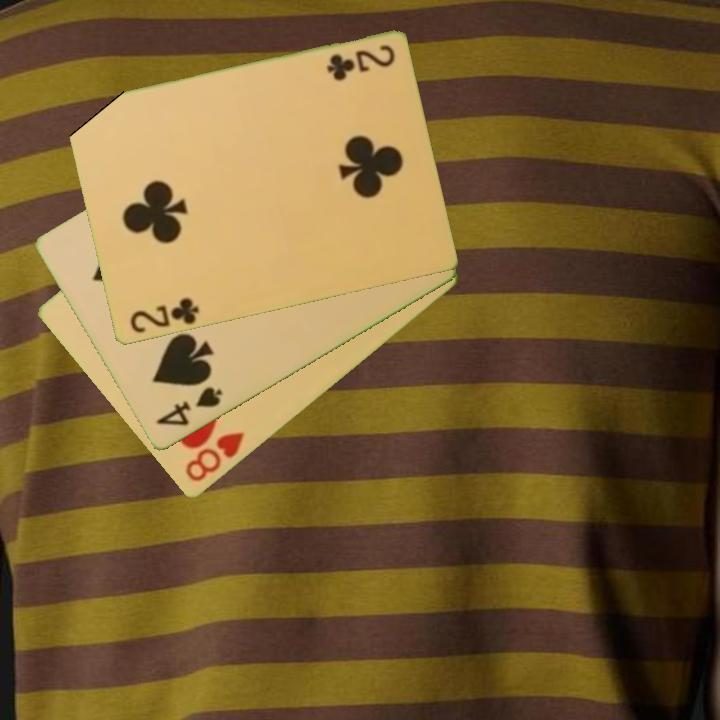2c: (126, 294, 202, 337), (322, 41, 398, 82)
4s: (152, 383, 226, 430)
8h: (181, 429, 248, 485)
